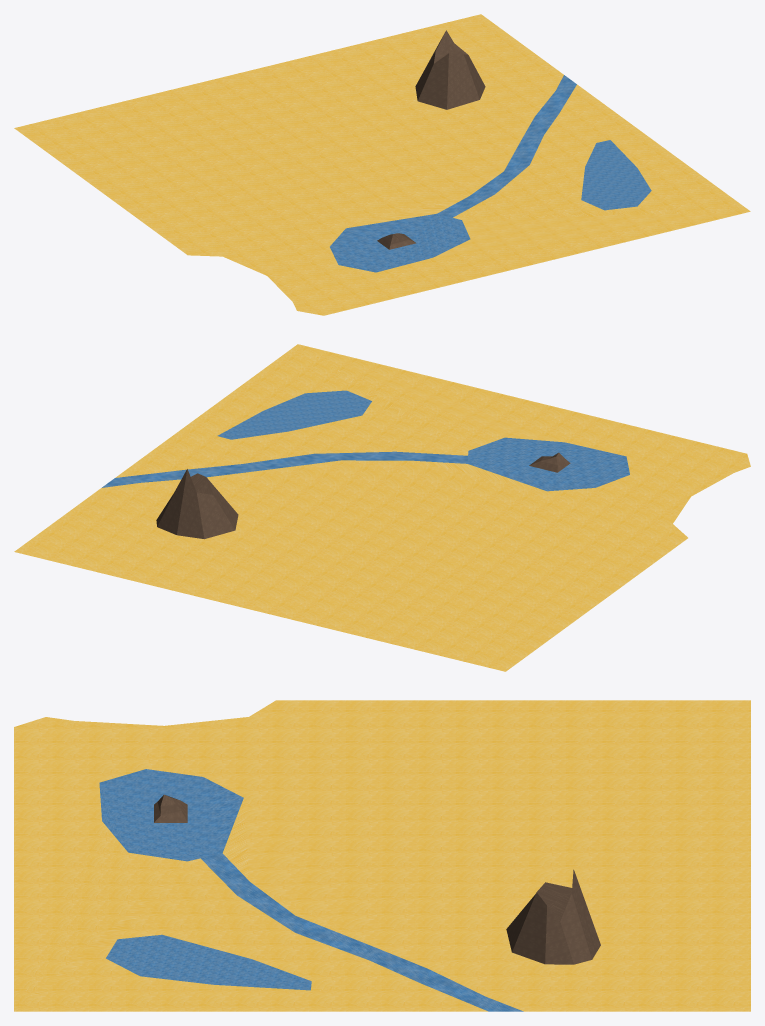
File: floor.glb
The picture shows the model from 3 angles, top to bottom: view 1: azimuth 30°, elevation 25°; view 2: azimuth 150°, elevation 25°; view 3: azimuth 270°, elevation 25°; orthographic projection. The views are drawn at different scales.
Parts seen in each view (by area): view 1: Plane; view 2: Plane; view 3: Plane.
Boxes of the visible parts, x1,y1,x2,y2 form: Plane: [14, 14, 750, 315]; Plane: [14, 344, 750, 671]; Plane: [14, 700, 750, 1011].
Bounding box in the file's own units: 550 × 63.08 × 550.
3 materials, 3 textured.
